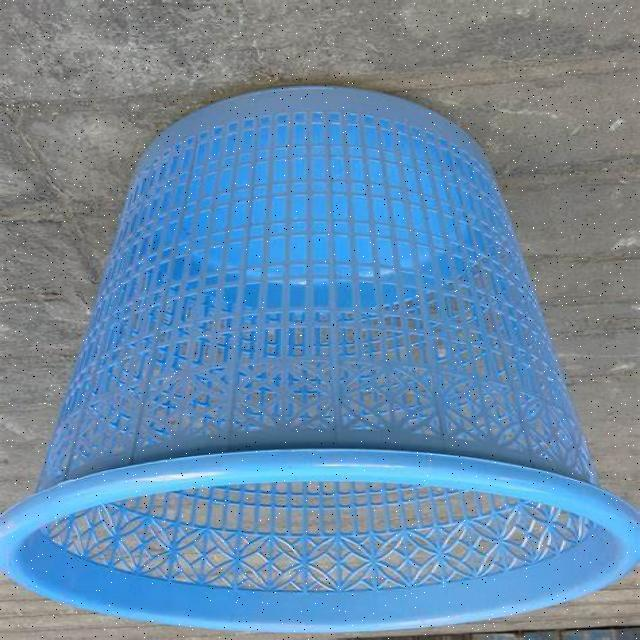garbage container: (1, 50, 635, 637)
